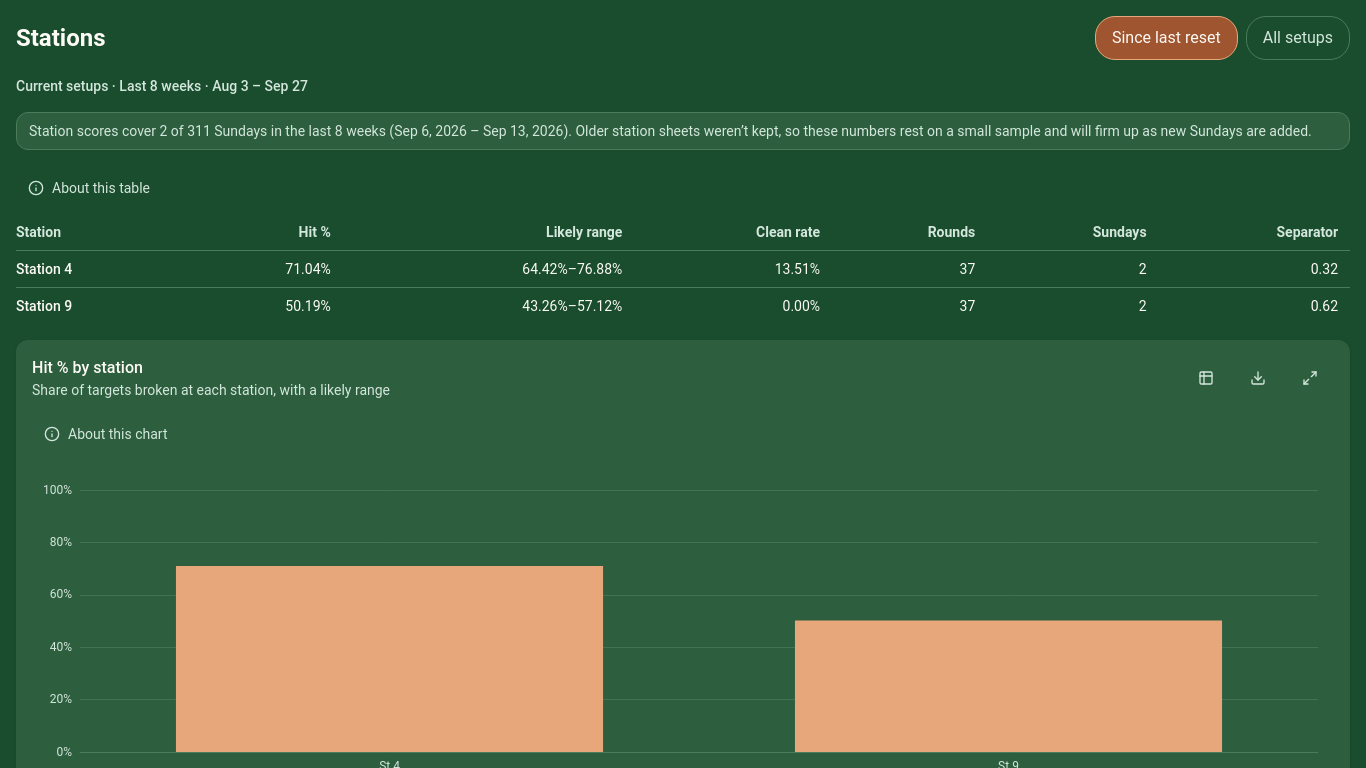
Test: StationsPage › shows chart tables and CSV rows as two-decimal percentages
The width and height of the screenshot is (1366, 768).
What coordinates should you click on to do the following:
click the button named "Table"
I would click on:
 (1206, 378)
Its box is [1182, 356, 1230, 400].
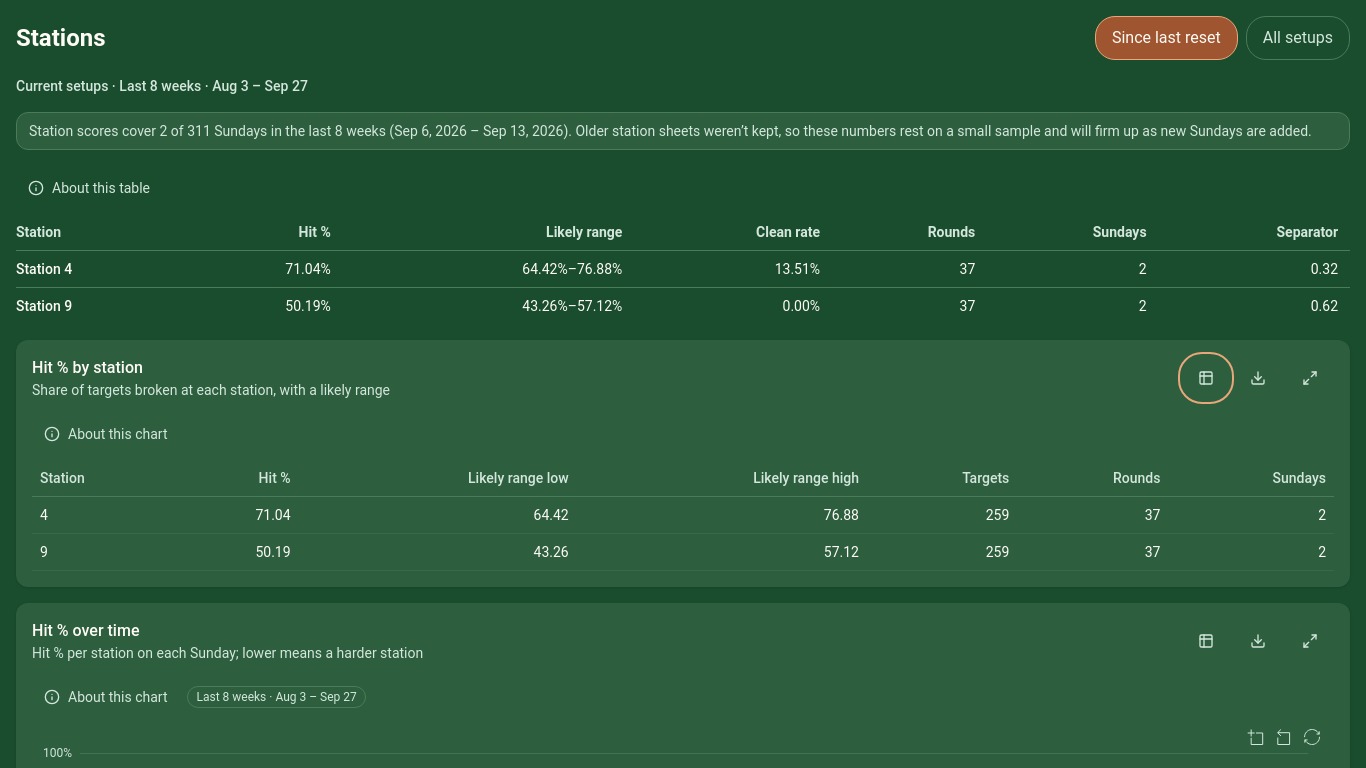
Check: the row "9 50.19 43.26 57.12 259 37 2" is shown, box [32, 534, 1334, 570]
